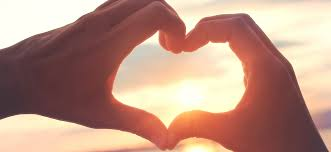hand: (26, 1, 174, 151), (180, 2, 319, 147)
